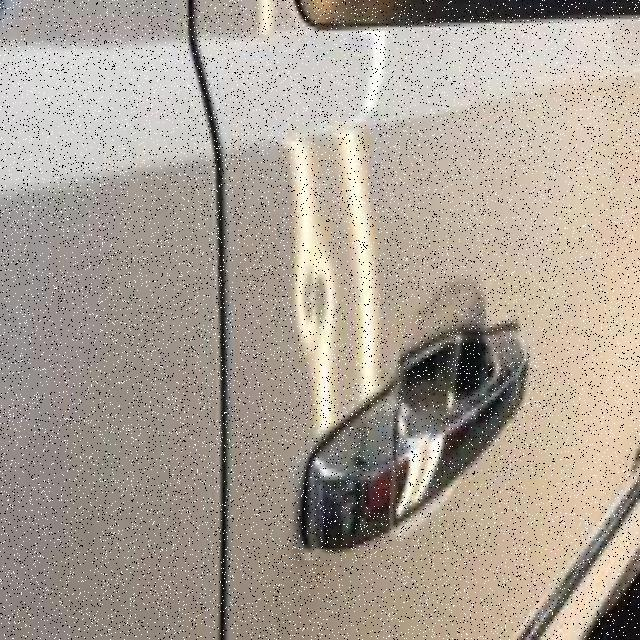doorouter-dent: (222, 0, 638, 598)
